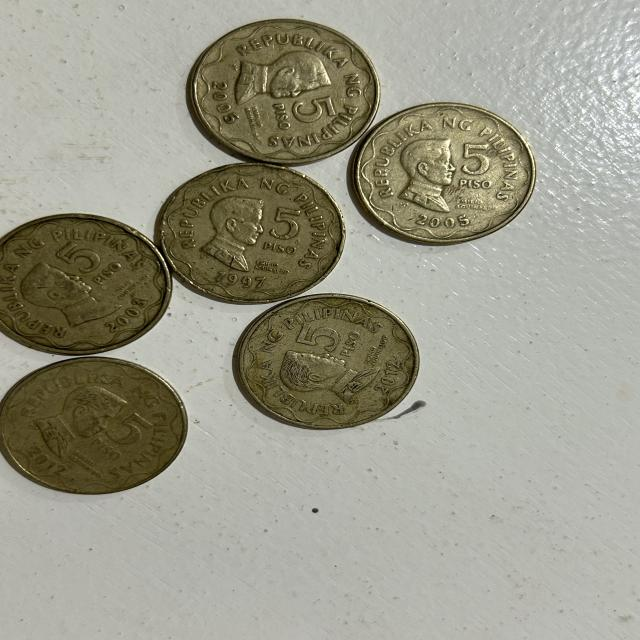5_Old_Front: (47, 239, 131, 294), (268, 89, 354, 137), (86, 404, 152, 459), (290, 316, 366, 356), (262, 198, 302, 268), (448, 142, 499, 196)
